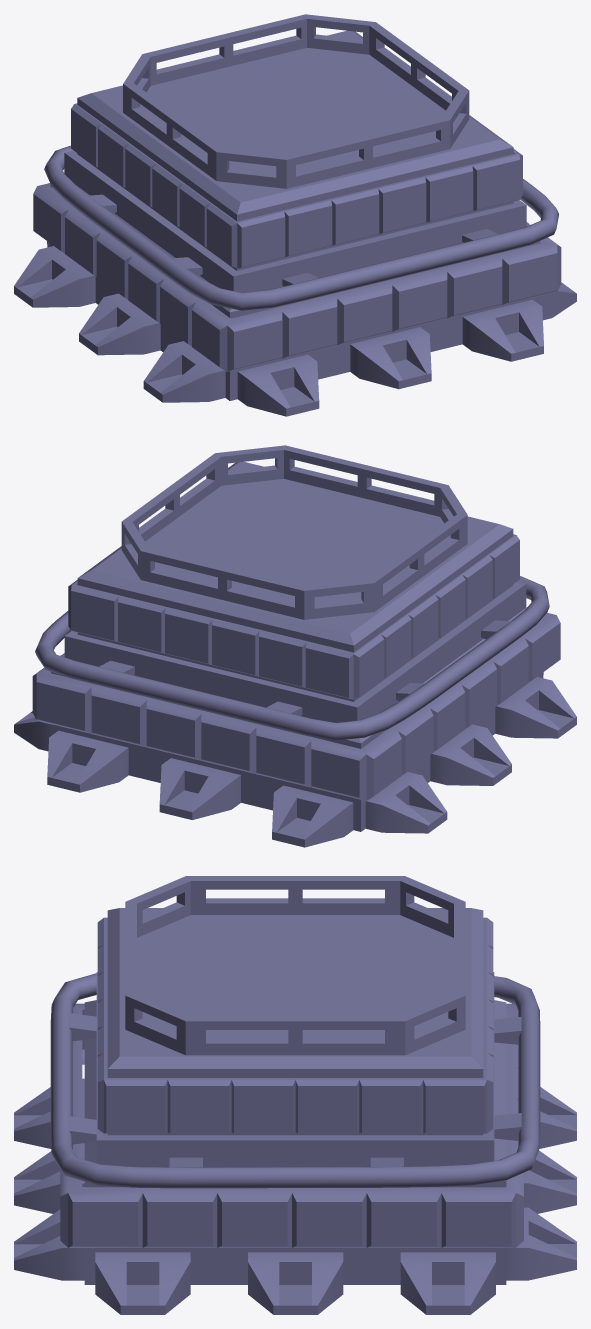
3 views of the same model, one above another, from view 1: azimuth 30°, elevation 25°; view 2: azimuth 150°, elevation 25°; view 3: azimuth 270°, elevation 25° (orthographic). The views are drawn at different scales.
Visible parts, largest first — view 1: SM_CU_Base_A; view 2: SM_CU_Base_A; view 3: SM_CU_Base_A.
Part boxes in pixels (x1=…): SM_CU_Base_A: x1=14, y1=14, x2=576, y2=416; SM_CU_Base_A: x1=14, y1=445, x2=576, y2=847; SM_CU_Base_A: x1=14, y1=876, x2=576, y2=1314.
Size of the model in its own units: 100 by 48.53 by 100.
